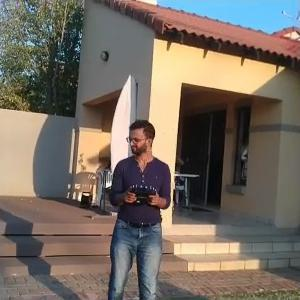follow: (105, 114, 175, 298)
